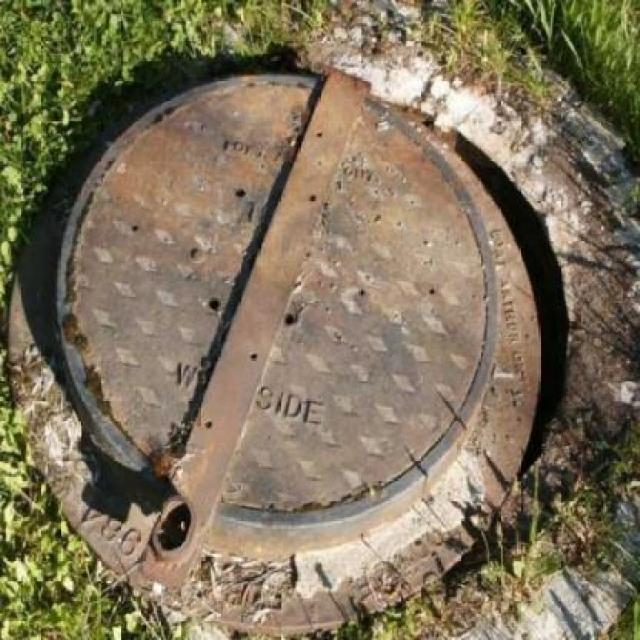Manhole: (8, 45, 570, 638)
